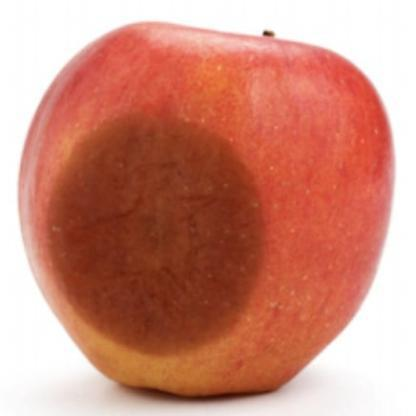apple_rotten: (12, 13, 402, 402)
